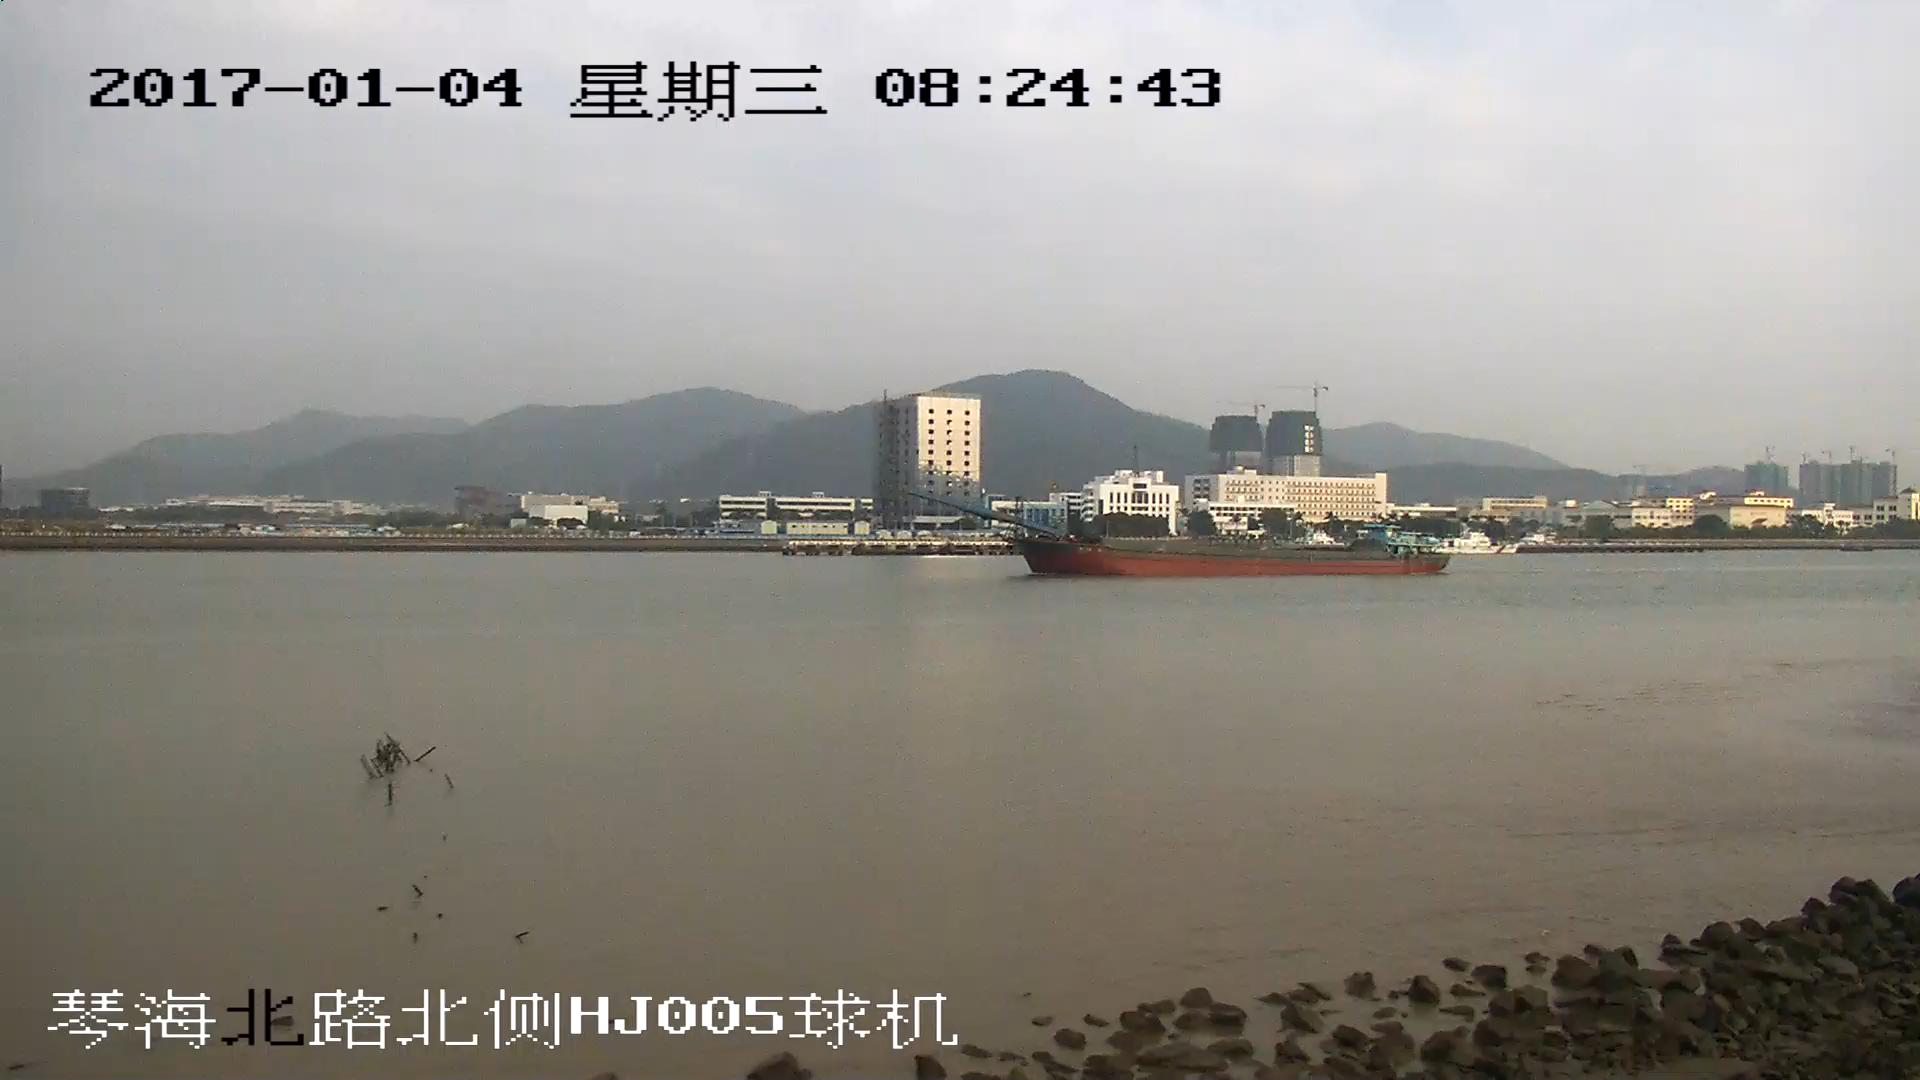bulk cargo carrier: (906, 487, 1447, 572)
